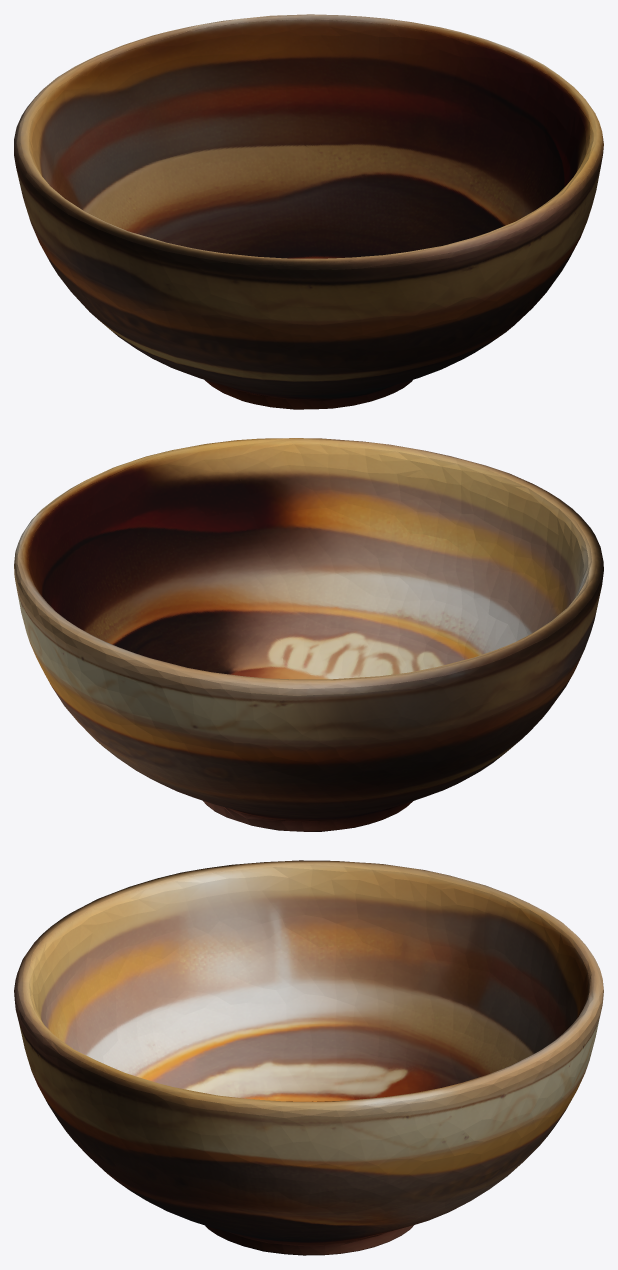
File: ceramic-bowl-rustic.jpeg.glb
3 renders of one model, top to bottom at view 1: azimuth 30°, elevation 25°; view 2: azimuth 150°, elevation 25°; view 3: azimuth 270°, elevation 25°, orthographic.
Visible parts, largest first — view 1: world; view 2: world; view 3: world.
Boxes of the visible parts, x1,y1,x2,y2 form: world: [14, 14, 603, 409]; world: [14, 438, 603, 831]; world: [14, 860, 603, 1255].
Bounding box in the file's own units: 0.9989 × 0.426 × 0.9989.
1 material, 1 textured.
